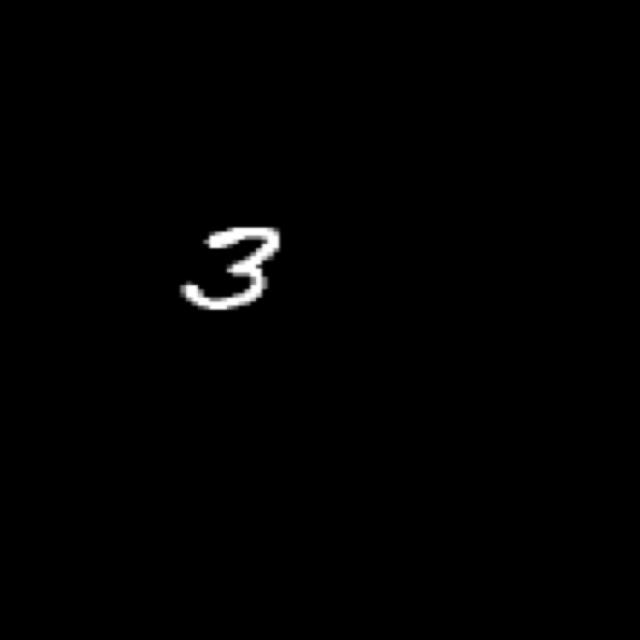three -3-: (183, 214, 302, 338)
